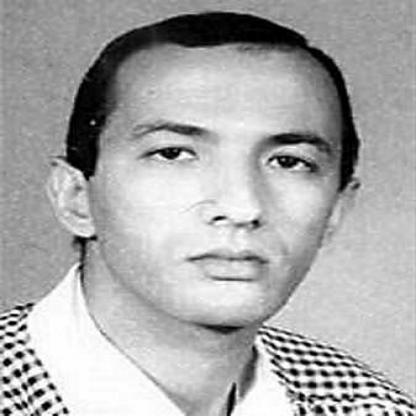face: (88, 20, 355, 331)
